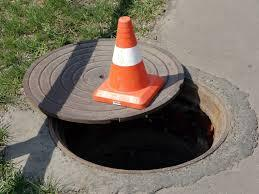open_manhole: (46, 104, 232, 171)
